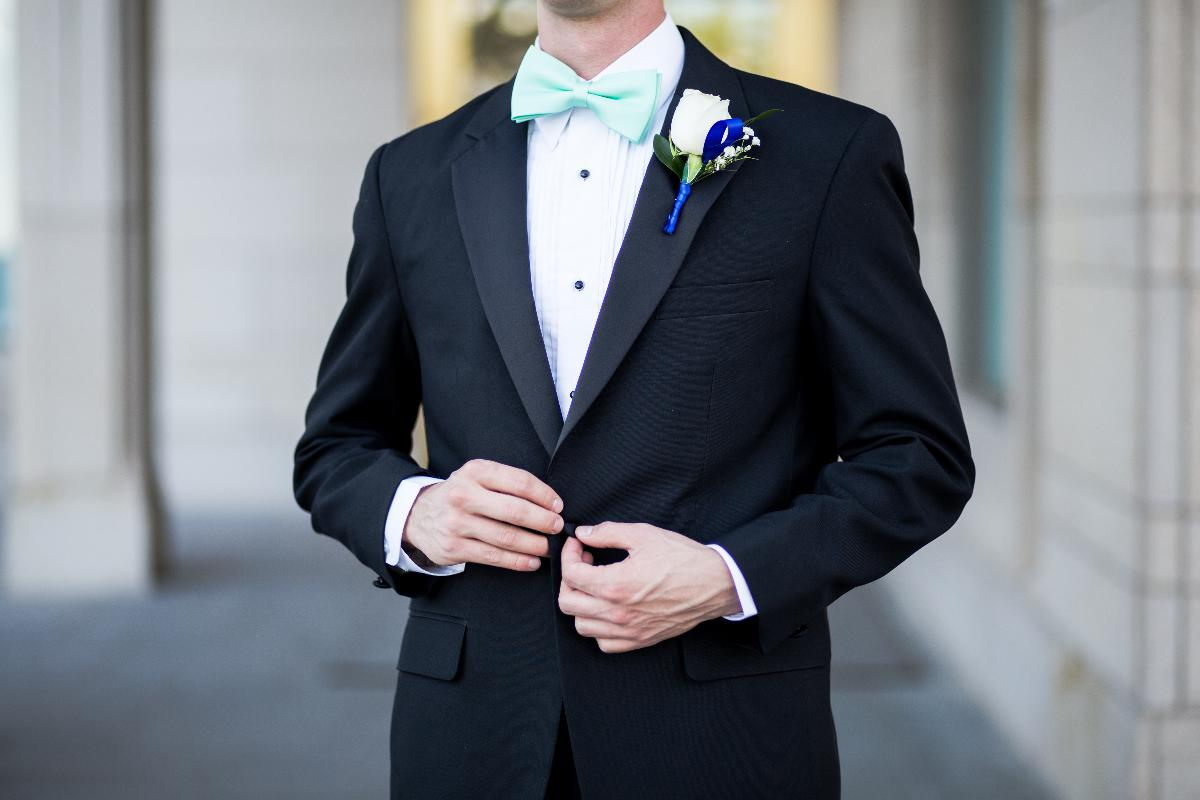Person: (285, 1, 977, 800)
